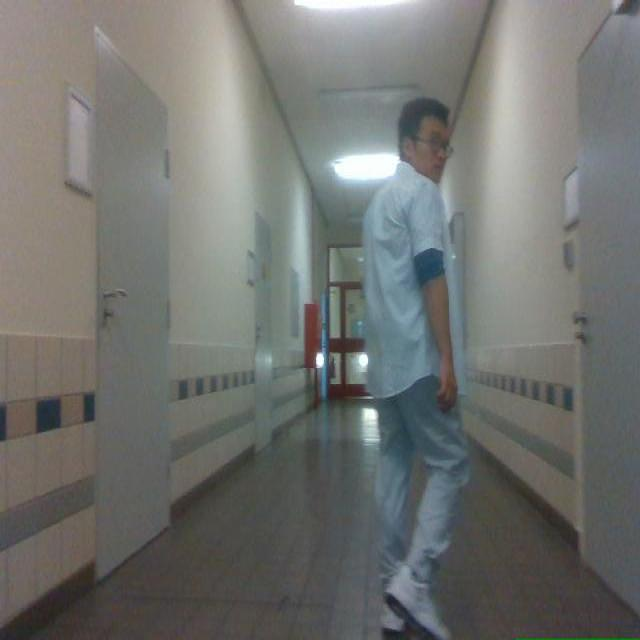humans: (363, 99, 468, 639)
